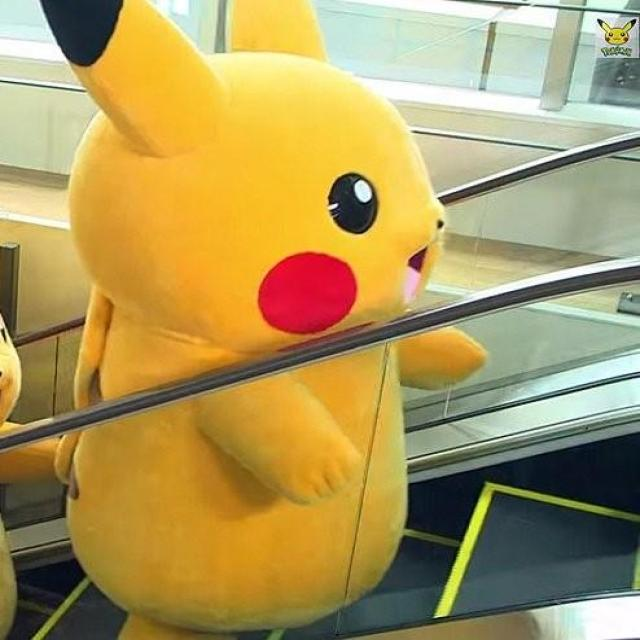pikachu: (42, 0, 491, 640)
